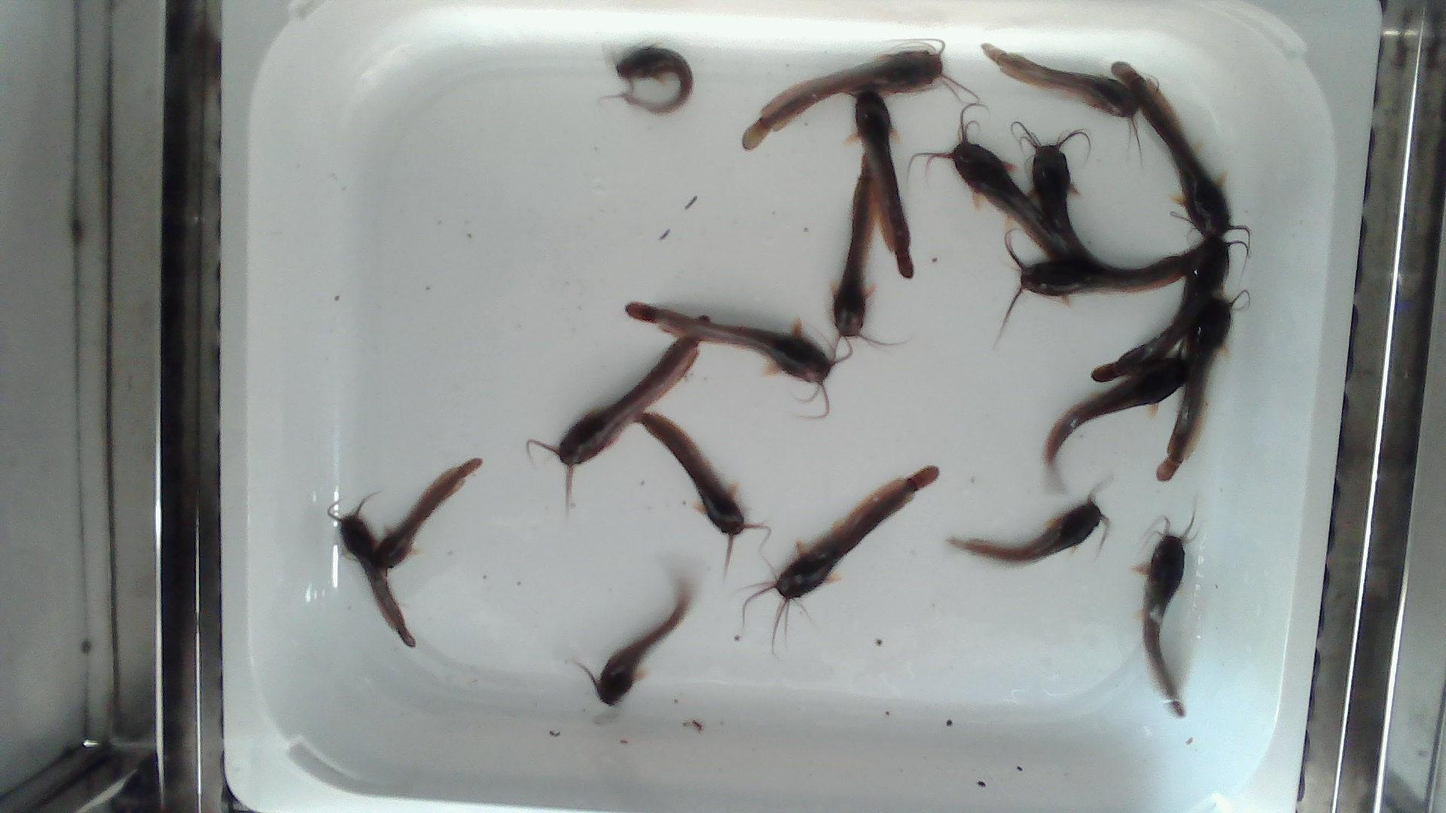lele: (733, 466, 937, 658), (911, 98, 1093, 264), (530, 337, 697, 515), (743, 38, 976, 150), (1108, 59, 1250, 240), (626, 303, 834, 424), (1089, 235, 1252, 382), (995, 229, 1195, 343), (639, 413, 761, 574), (984, 45, 1144, 167), (1044, 335, 1191, 467), (1155, 288, 1252, 481), (1009, 119, 1116, 270), (1131, 491, 1203, 715), (325, 491, 417, 648), (371, 457, 485, 573), (847, 90, 913, 278), (594, 585, 691, 705), (831, 170, 895, 346), (948, 494, 1103, 563), (618, 48, 694, 114)
